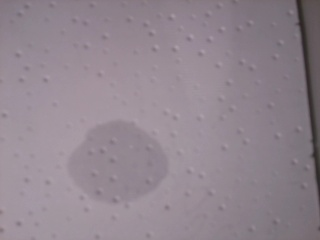Water_detected: (77, 128, 158, 194)
